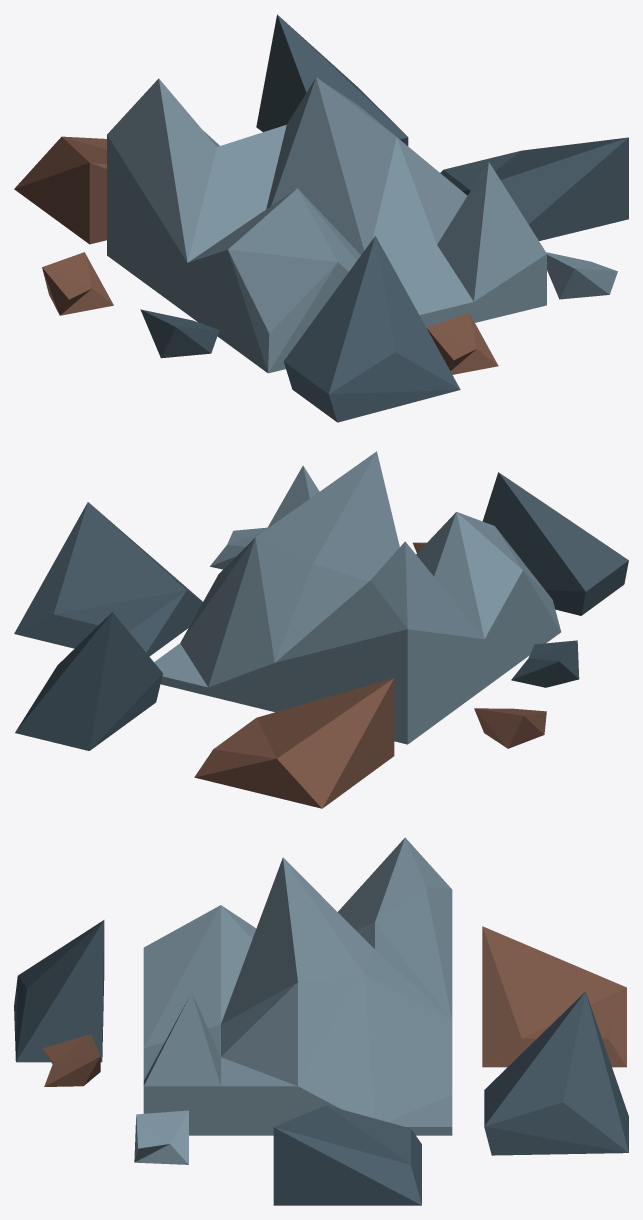
File: rocks.glb
3 renders of one model, top to bottom at view 1: azimuth 30°, elevation 25°; view 2: azimuth 150°, elevation 25°; view 3: azimuth 270°, elevation 25°, orthographic. The views are drawn at different scales.
Visible parts, largest first — view 1: group677962316, group1286736455, group659207845, group1908968277, group521626300, group1287674282, group899512959, group619417188, group491183715; view 2: group677962316, group1908968277, group659207845, group521626300, group1286736455, group619417188, group1287674282, group491183715; view 3: group677962316, group521626300, group659207845, group1908968277, group1286736455, group491183715, group899512959.
Part boxes in pixels (x1,y1,x2,y2): group677962316: [107, 77, 546, 373]; group1286736455: [283, 236, 460, 422]; group659207845: [440, 137, 628, 240]; group1908968277: [14, 136, 106, 244]; group521626300: [256, 14, 408, 145]; group1287674282: [42, 252, 113, 315]; group899512959: [426, 313, 498, 374]; group619417188: [140, 309, 219, 358]; group491183715: [546, 252, 617, 299]; group677962316: [154, 451, 561, 744]; group1908968277: [194, 678, 394, 808]; group659207845: [14, 502, 202, 656]; group521626300: [15, 612, 162, 750]; group1286736455: [482, 472, 628, 615]; group619417188: [511, 640, 579, 687]; group1287674282: [474, 708, 546, 748]; group491183715: [210, 527, 266, 569]; group677962316: [143, 837, 452, 1135]; group521626300: [484, 991, 628, 1155]; group659207845: [273, 1105, 421, 1205]; group1908968277: [482, 926, 626, 1067]; group1286736455: [14, 920, 104, 1062]; group491183715: [134, 1110, 188, 1164]; group899512959: [42, 1034, 100, 1086].
Size of the model in its own units: 3.08 by 1.21 by 3.27.
